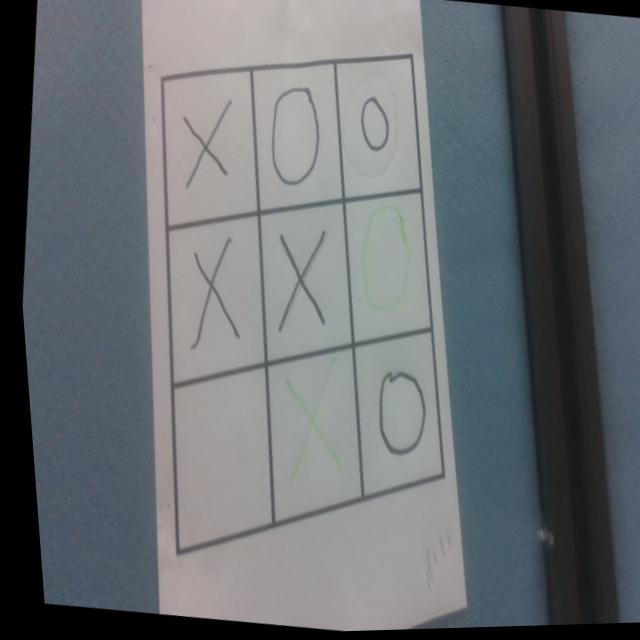null: (146, 358, 285, 565)
o: (347, 202, 415, 321), (260, 83, 326, 190), (364, 366, 428, 462), (351, 96, 395, 156)
table: (98, 10, 494, 586)
x: (266, 352, 350, 491), (180, 233, 245, 350), (266, 231, 328, 335), (174, 103, 233, 193)
